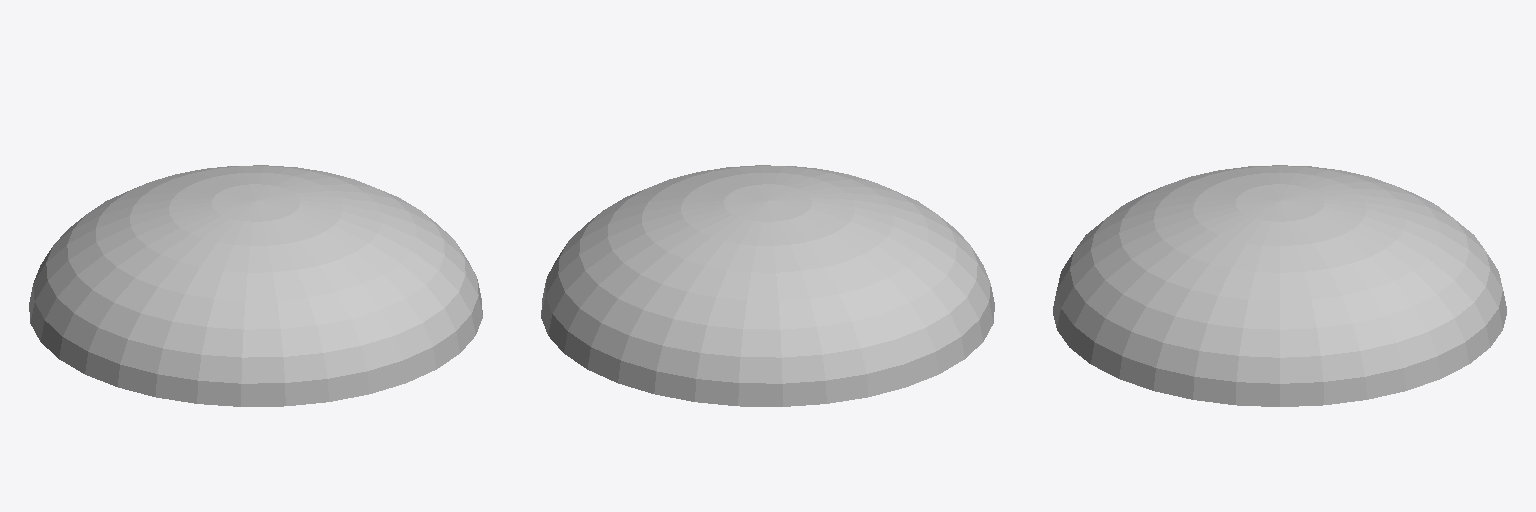
File: P_Dome_MF.obj
The picture shows the model from 3 angles: view 1: azimuth 30°, elevation 25°; view 2: azimuth 150°, elevation 25°; view 3: azimuth 270°, elevation 25°; orthographic projection.
Visible parts, largest first — view 1: P_Dome_MF; view 2: P_Dome_MF; view 3: P_Dome_MF.
Part boxes in pixels (x1,y1,x2,y2): P_Dome_MF: (29,165,482,406); P_Dome_MF: (541,165,994,406); P_Dome_MF: (1053,165,1506,406).
Size of the model in its own units: 13.29 by 3.55 by 13.29.